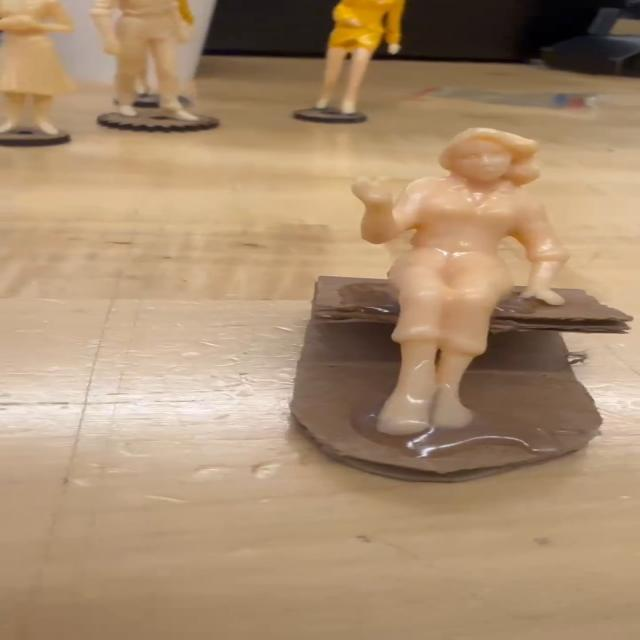Unauthorized: (343, 124, 564, 434)
